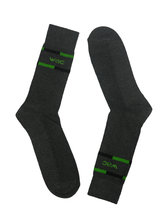sock: (81, 23, 150, 208), (14, 20, 82, 198)
